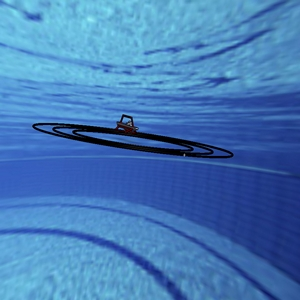circle: (20, 110, 244, 185)
submarine: (106, 105, 143, 140)
